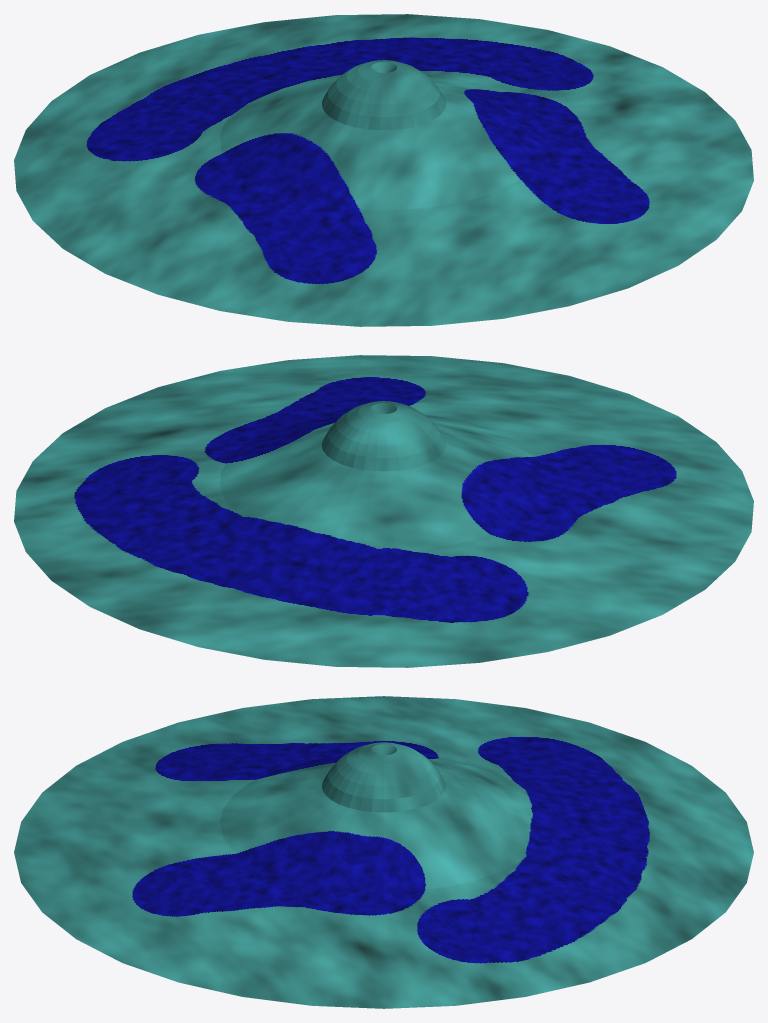
File: ufo.obj
The picture shows the model from 3 angles, top to bottom: view 1: azimuth 30°, elevation 25°; view 2: azimuth 150°, elevation 25°; view 3: azimuth 270°, elevation 25°; orthographic projection.
Parts seen in each view (by area): view 1: Sphere; view 2: Sphere; view 3: Sphere.
Part boxes in pixels (x1,y1,x2,y2): Sphere: (14,14,753,326); Sphere: (14,355,753,667); Sphere: (14,696,753,1008).
Bounding box in the file's own units: 4.42 × 0.9989 × 4.42.
1 material, 1 textured.
